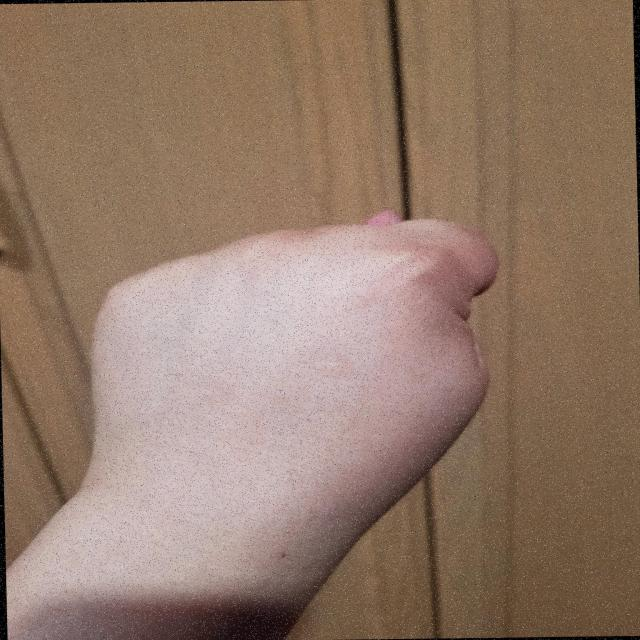T: (66, 199, 521, 567)
